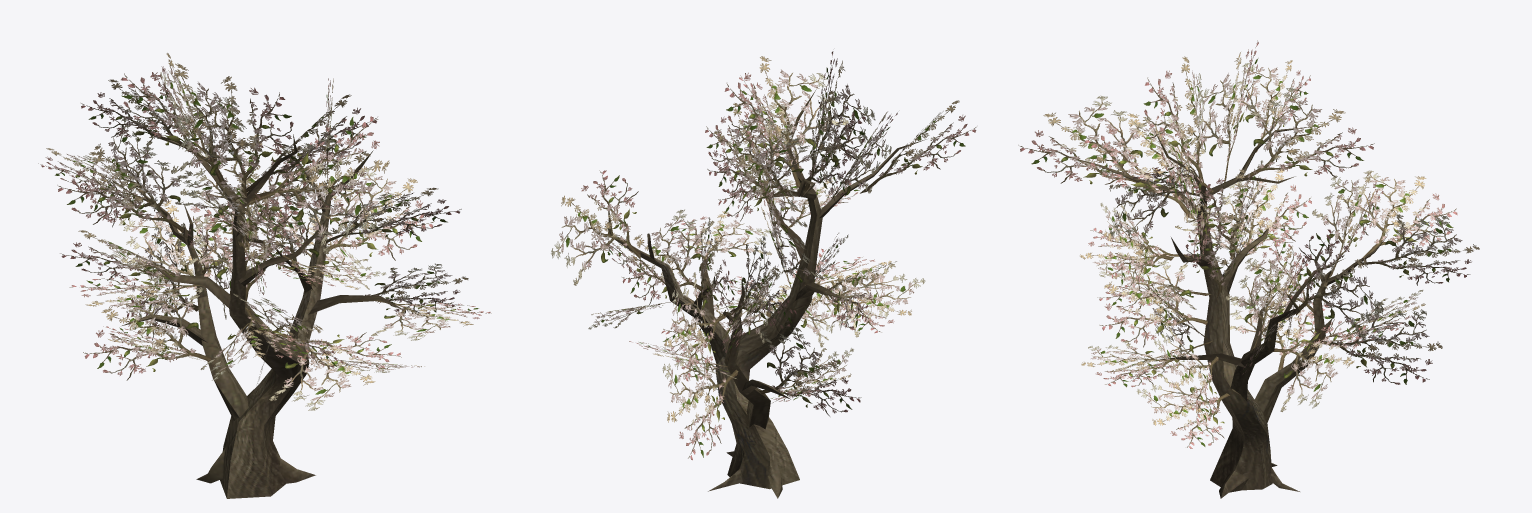
File: SC001GXzhiwu_01.FBX
3 views of the same model, side by side, from view 1: azimuth 30°, elevation 25°; view 2: azimuth 150°, elevation 25°; view 3: azimuth 270°, elevation 25° (orthographic). The views are drawn at different scales.
Visible parts, largest first — view 1: SC001GXzhiwu_01; view 2: SC001GXzhiwu_01; view 3: SC001GXzhiwu_01.
Part boxes in pixels (x1,y1,x2,y2): SC001GXzhiwu_01: [38, 53, 491, 498]; SC001GXzhiwu_01: [551, 51, 976, 498]; SC001GXzhiwu_01: [1018, 40, 1479, 498].
Size of the model in its own units: 20.54 by 23.38 by 24.33.
